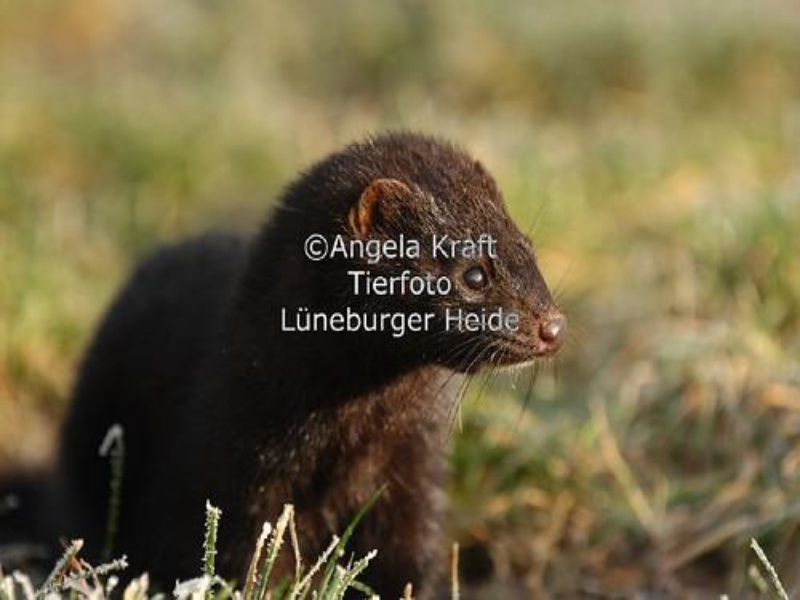minkish: (36, 125, 572, 573)
